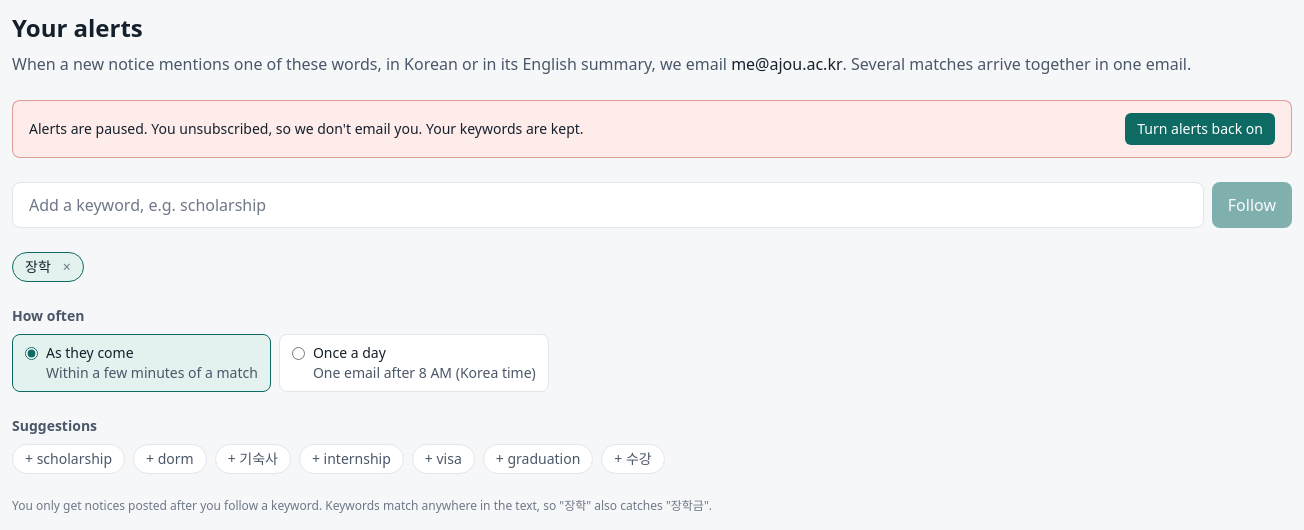
AlertsPage › shows paused alerts and turns them back on
The image size is (1304, 530).
expect the text "Alerts are paused." is shown: met, box x1=29 y1=119 x2=148 y2=138
expect the text "장학" is shown: met, box x1=25 y1=257 x2=51 y2=277
Click the button "Turn alerts back on".
click(1200, 129)  # box x1=1125 y1=113 x2=1275 y2=145
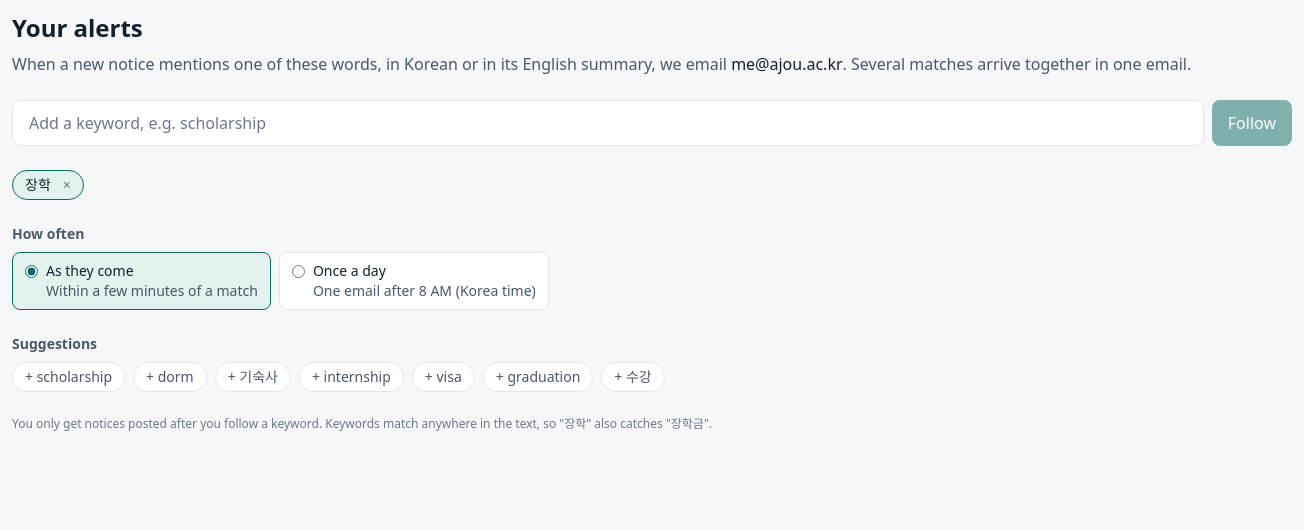
expect the text "Alerts are paused." is gone: met
